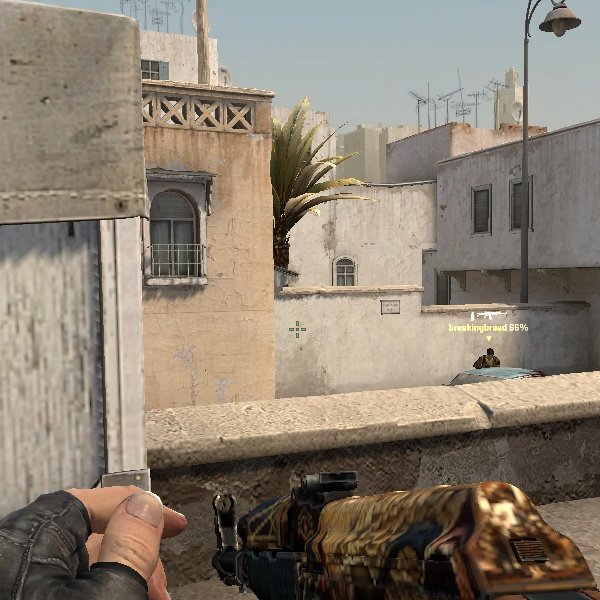t_body: (472, 348, 500, 368)
t_head: (487, 348, 494, 360)
